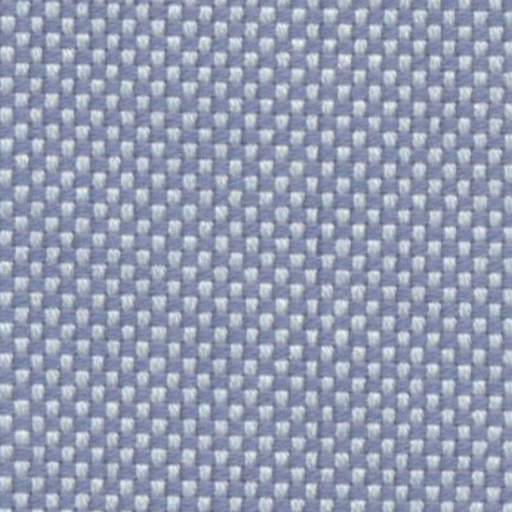TuoSha: (277, 22, 349, 486)
